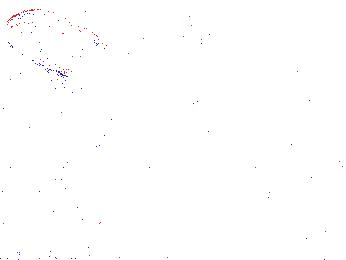moon jellyfish: (73, 23, 131, 142), (4, 8, 86, 76), (126, 9, 219, 61)
